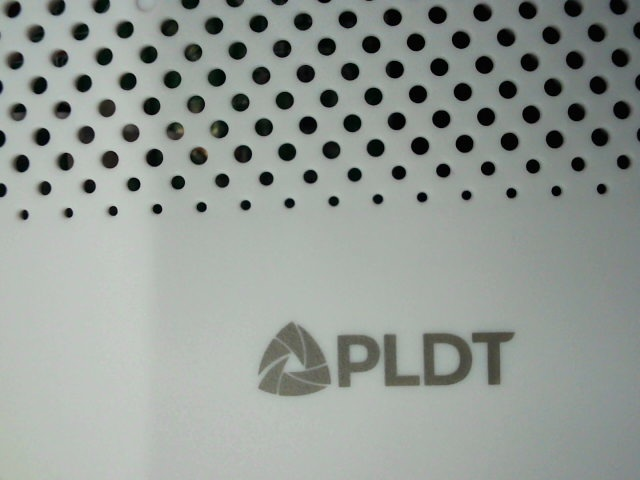BH_PLDT: (224, 301, 536, 415)
